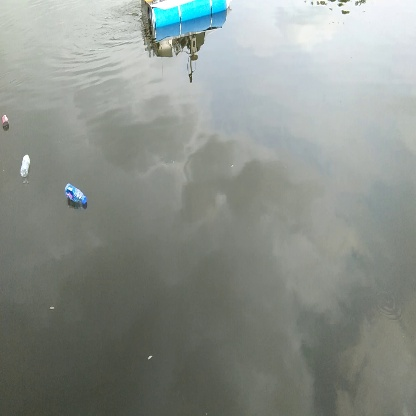bottle: (63, 182, 93, 211)
